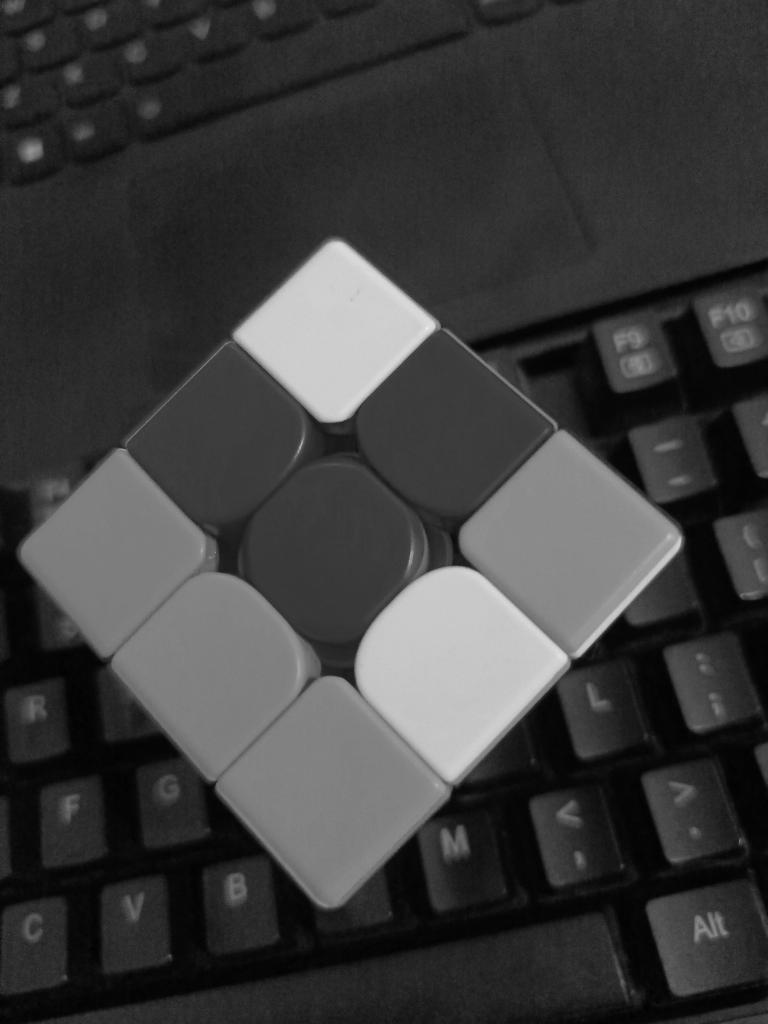rubik: (16, 234, 684, 910)
